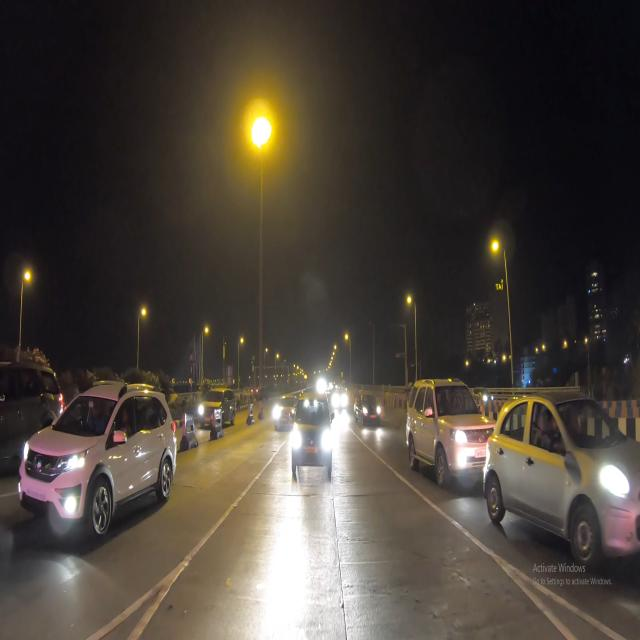headlights: (17, 432, 90, 483), (288, 420, 336, 463), (360, 399, 386, 427)
